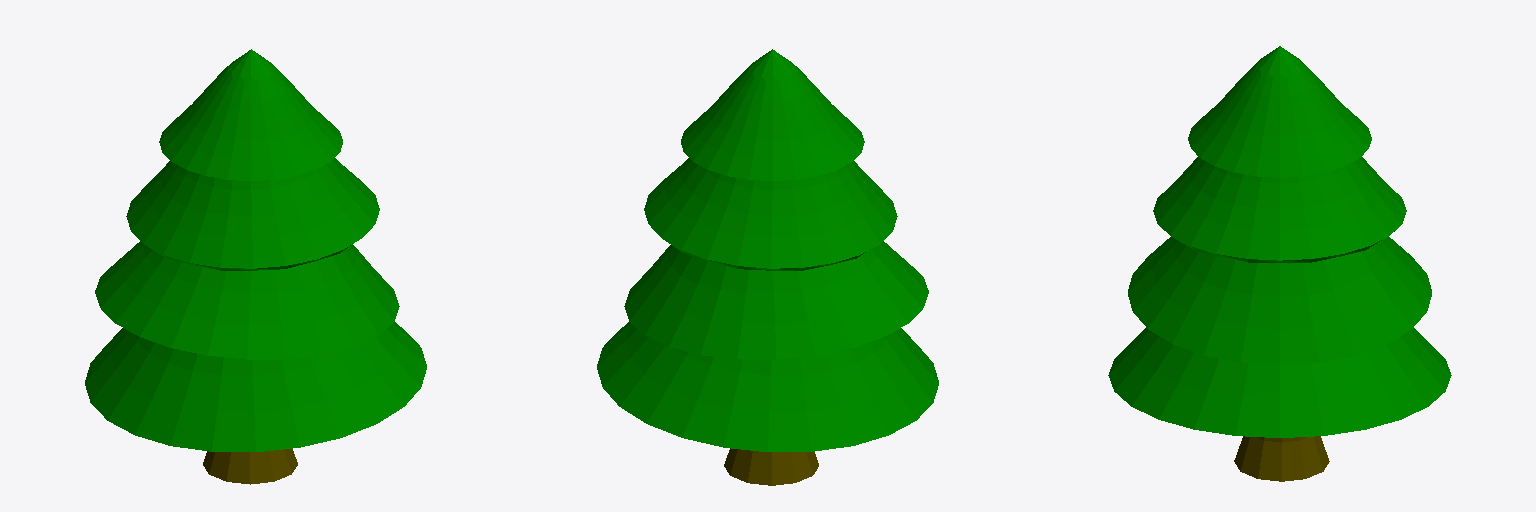
File: pinetree.obj
3 renders of one model, left to right at view 1: azimuth 30°, elevation 25°; view 2: azimuth 150°, elevation 25°; view 3: azimuth 270°, elevation 25°, orthographic.
Visible parts, largest first — view 1: Cartoon_tree2; view 2: Cartoon_tree2; view 3: Cartoon_tree2.
Boxes of the visible parts, x1,y1,x2,y2 form: Cartoon_tree2: [85, 49, 426, 484]; Cartoon_tree2: [597, 49, 938, 485]; Cartoon_tree2: [1108, 46, 1451, 481].
Bounding box in the file's own units: 141 × 189 × 141.